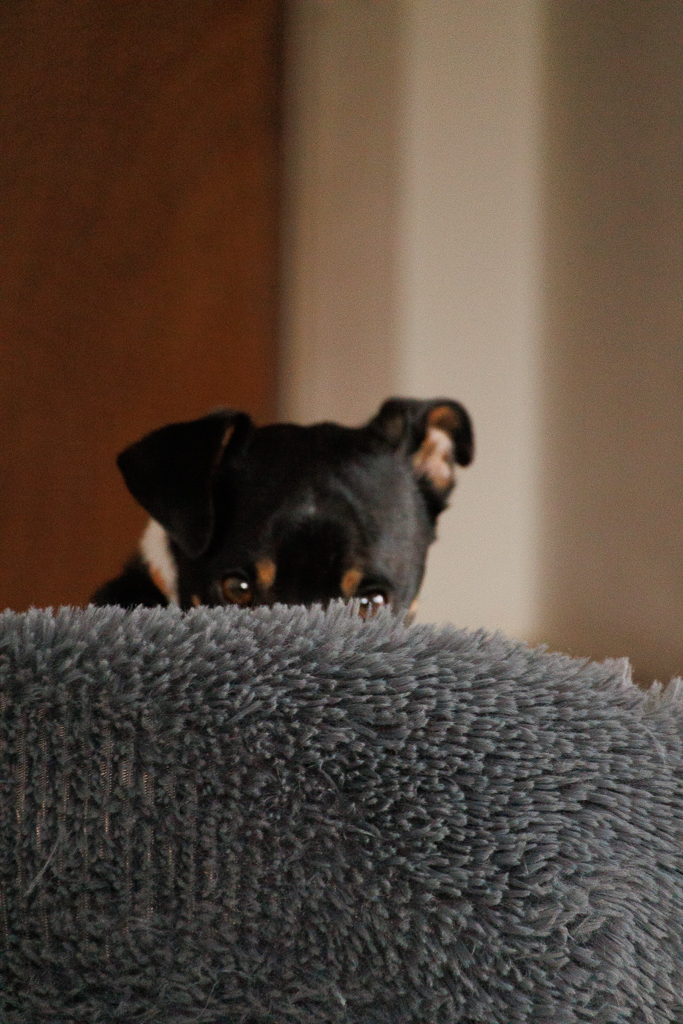Dog: (70, 387, 482, 637)
